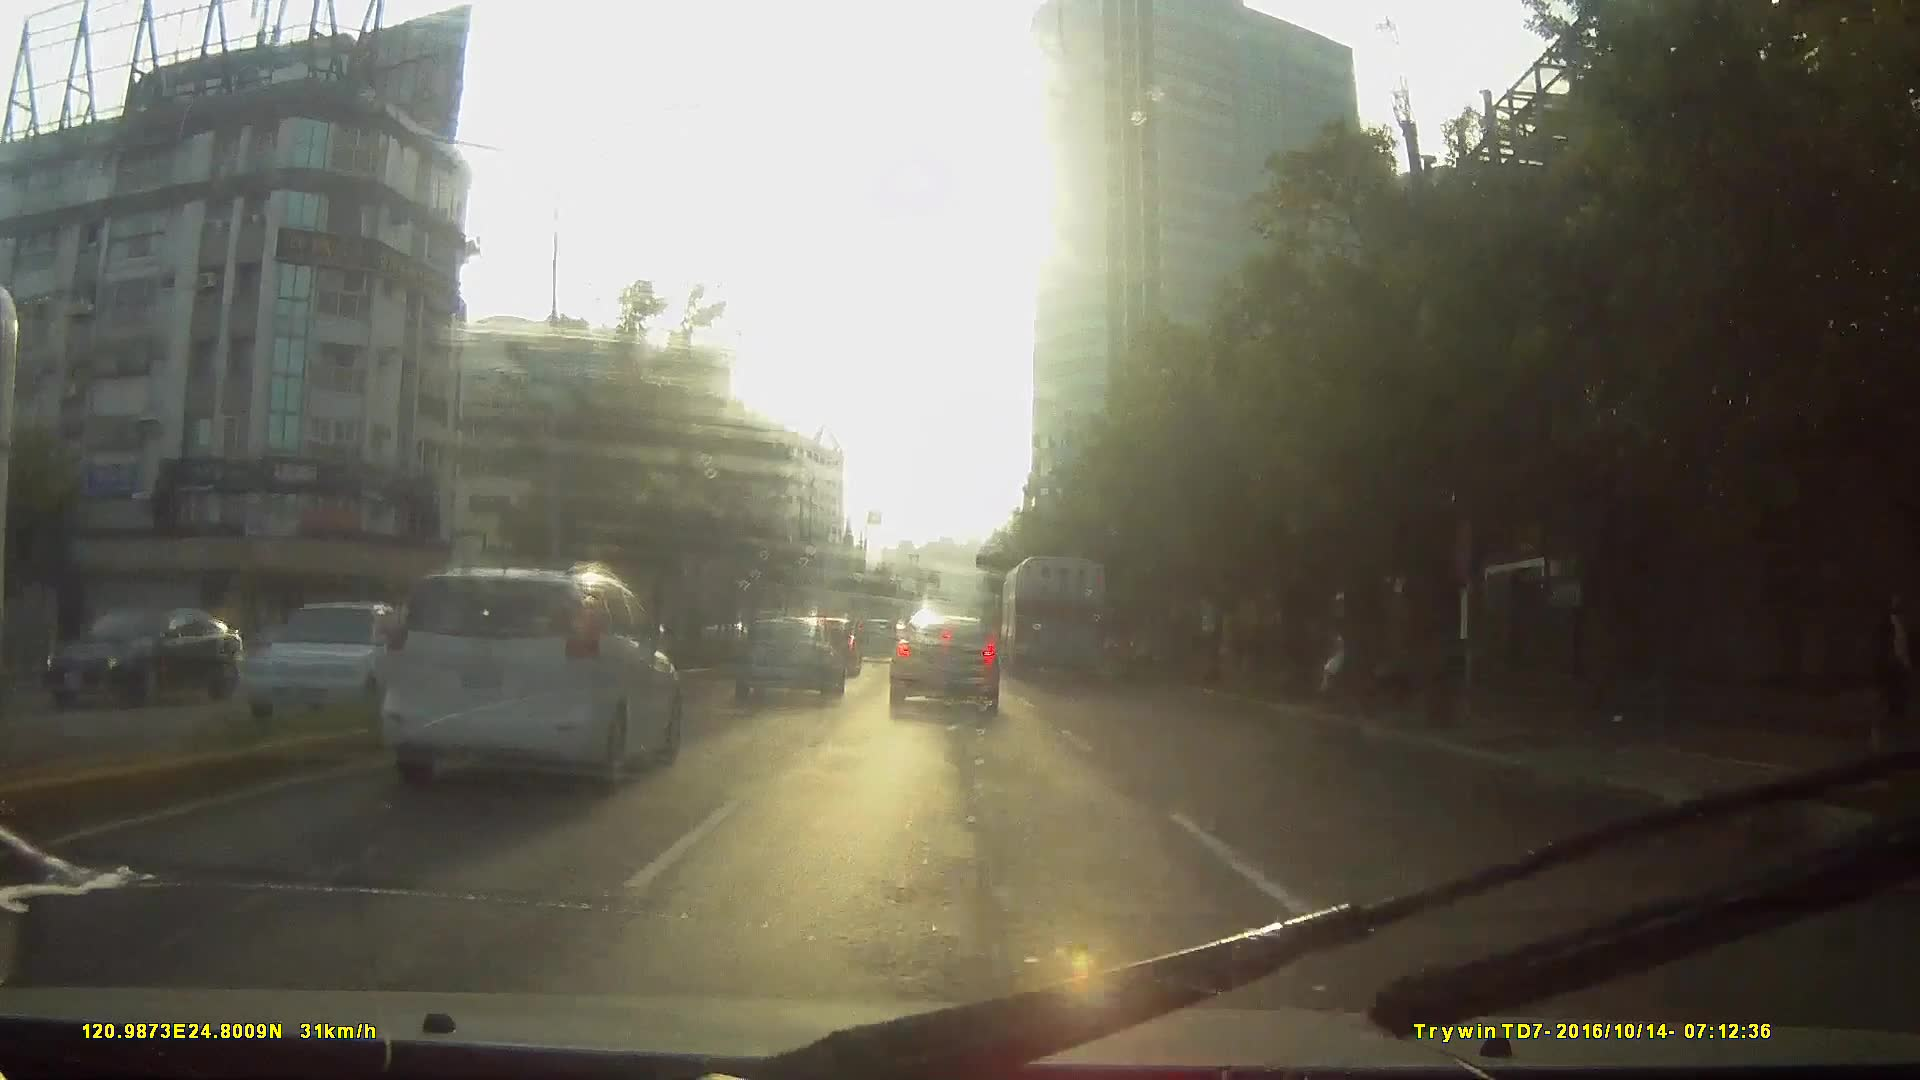vehicle: (251, 556, 684, 868), (375, 556, 679, 785), (227, 593, 440, 738), (33, 611, 233, 709), (1000, 553, 1108, 682), (884, 609, 1000, 713), (727, 612, 840, 699), (851, 615, 899, 663)
